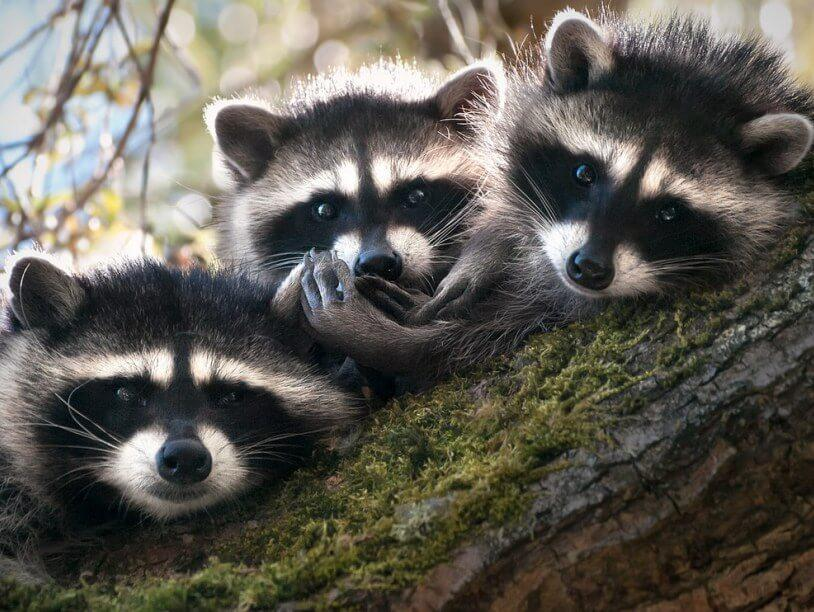raccoon: (299, 6, 814, 380), (0, 249, 353, 548), (208, 58, 505, 295)
